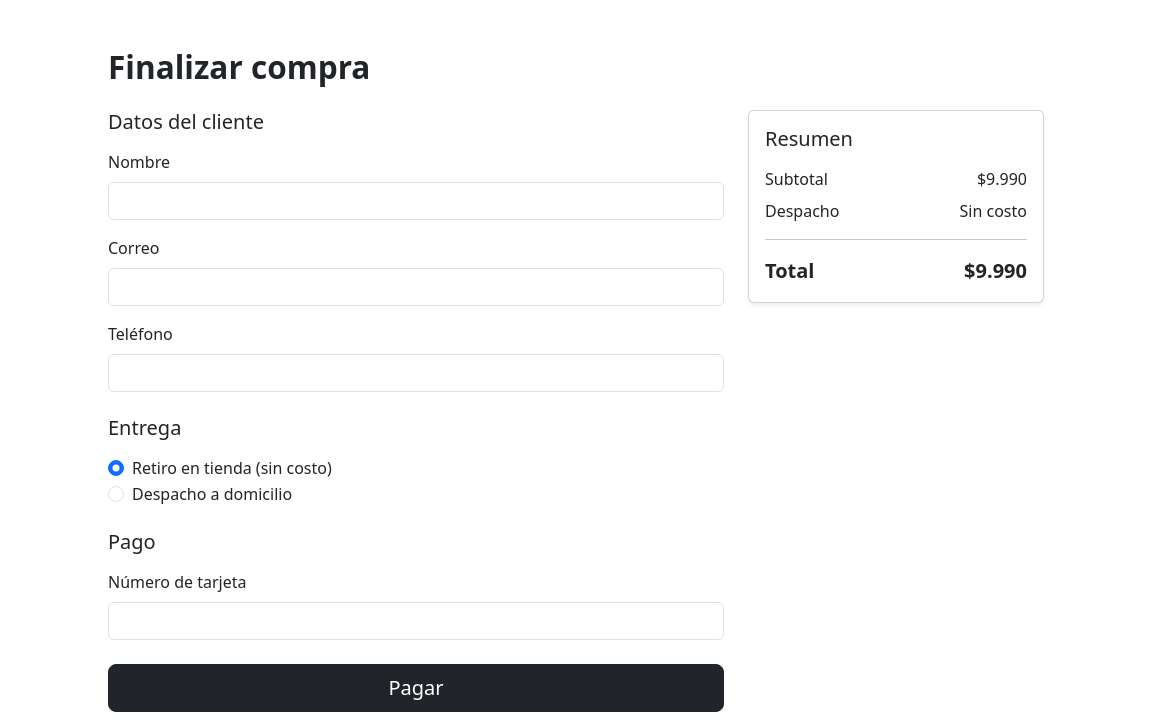
Test: PaginaCheckout (flujo de compra) › lleva a compra fallida cuando el pago es rechazado
Type "Vicente" into the field labelled "Nombre". click: (416,201)
box: [108,182,724,220]
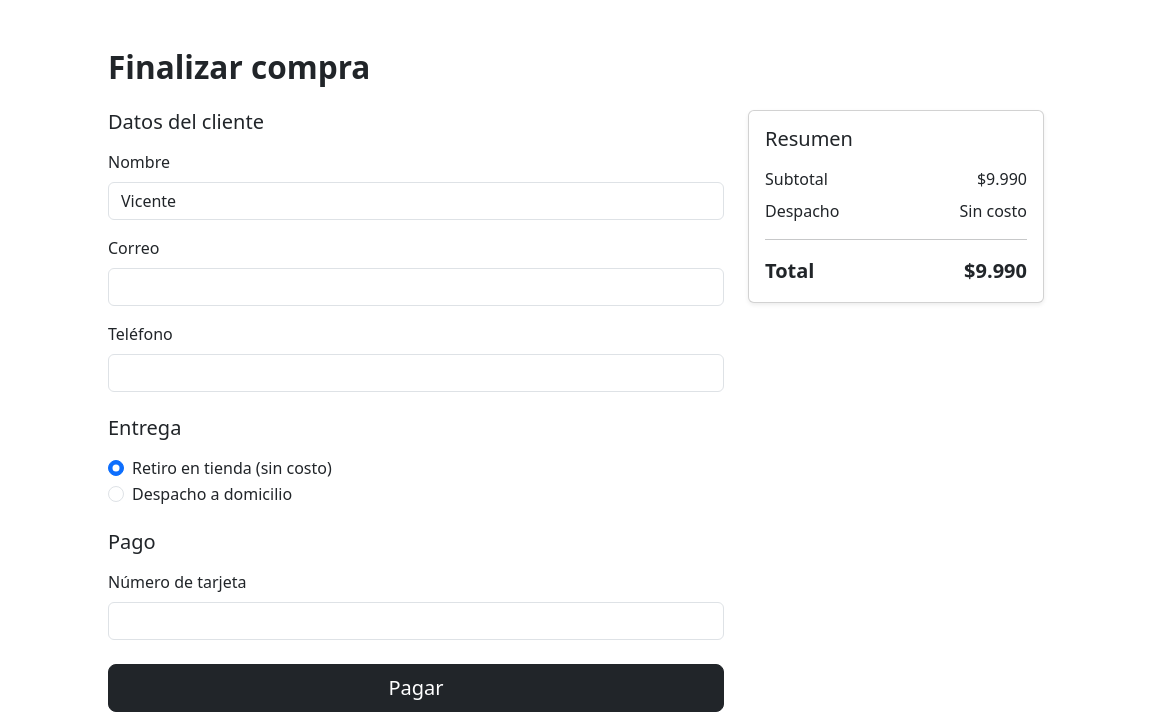
Type "vice@fuma.cl" into the field labelled "Correo". click: (416,287)
box: [108,268,724,306]
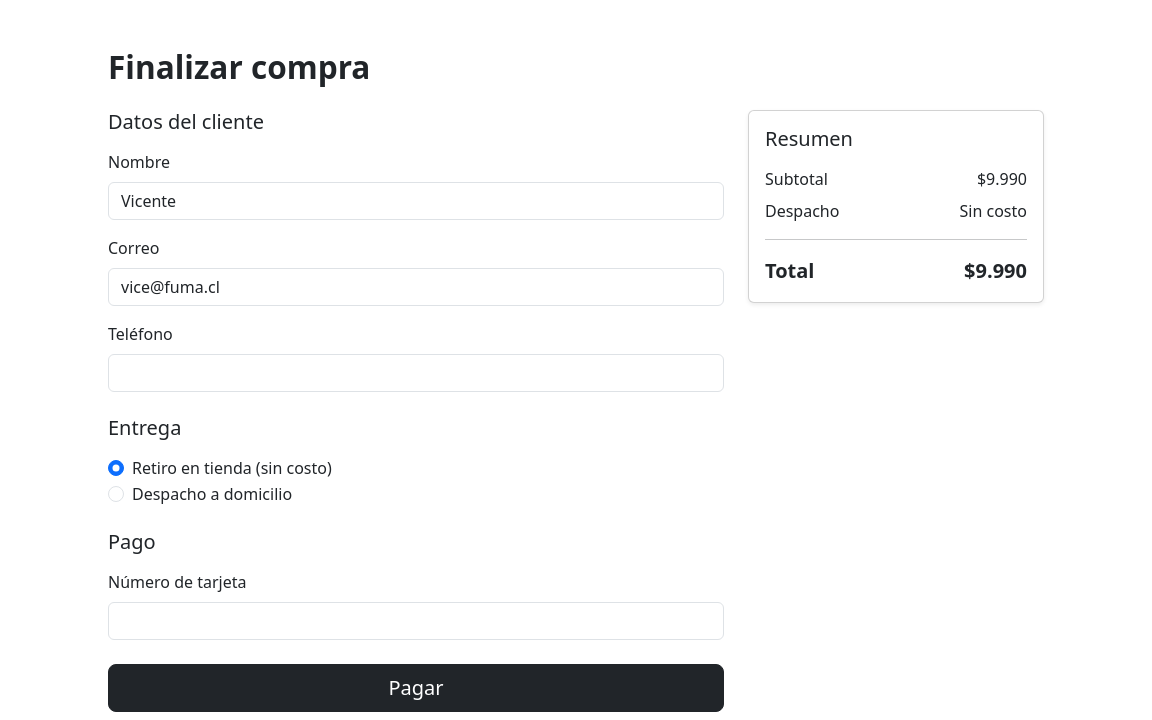
Type "912345678" into the field labelled "Teléfono". click: (416,373)
box: [108,354,724,392]
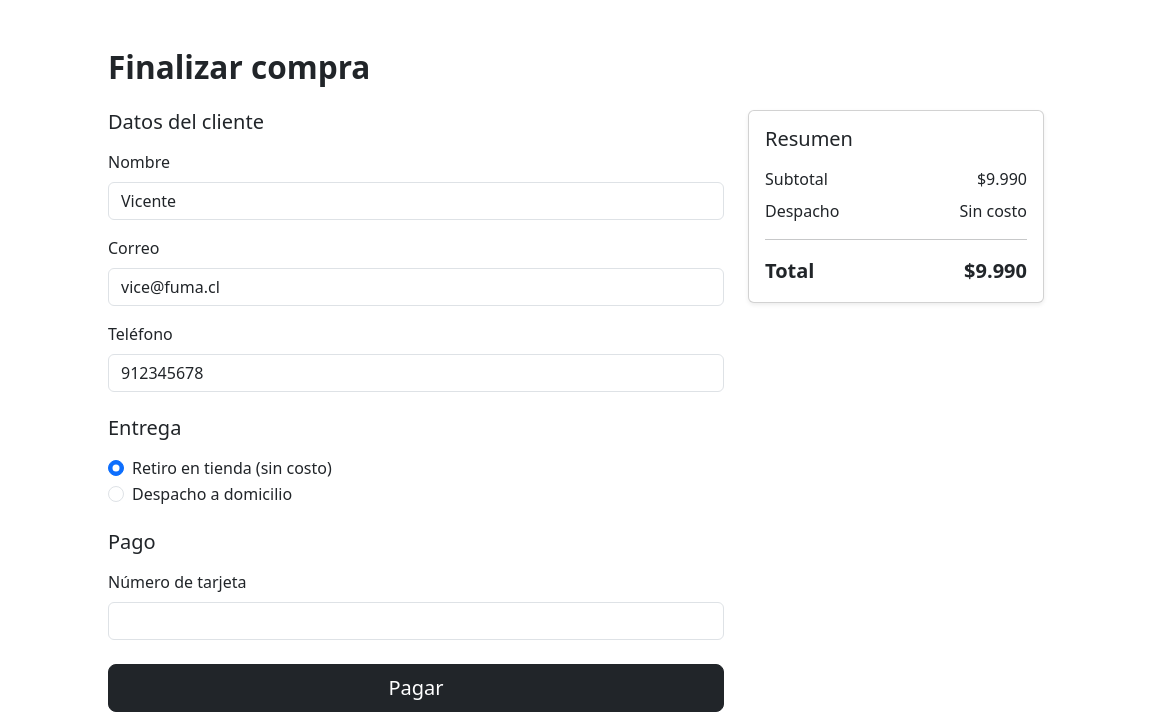
Type "0000 1111 2222 3333" into the field labelled "Número de tarjeta". click: (416,621)
box: [108,602,724,640]
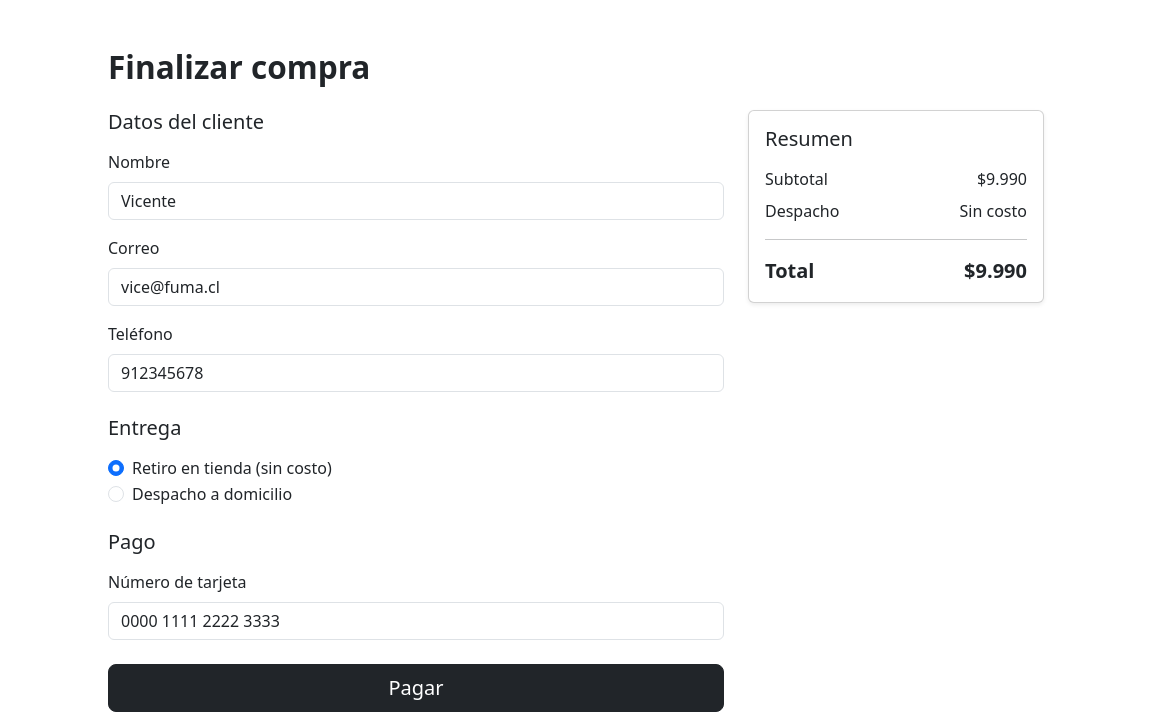
Click the button "Pagar". click: (416,688)
box: [108,664,724,712]
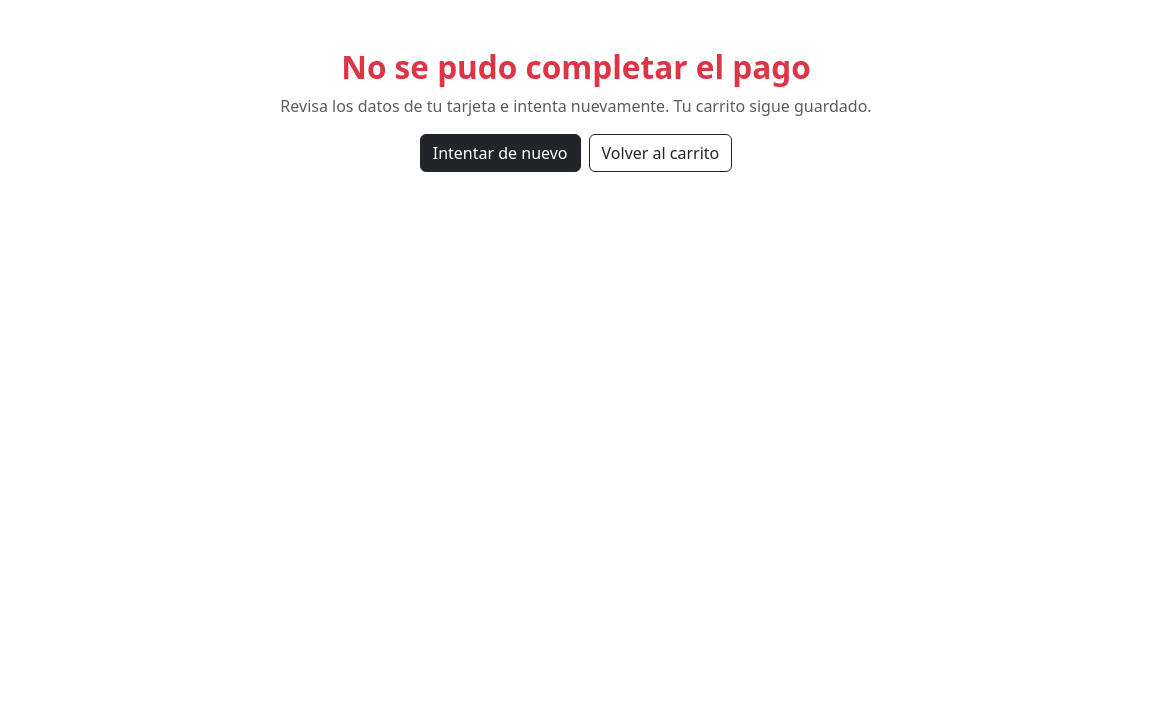
Expected: the heading "No se pudo completar el pago" is shown, [341,45,811,88]
